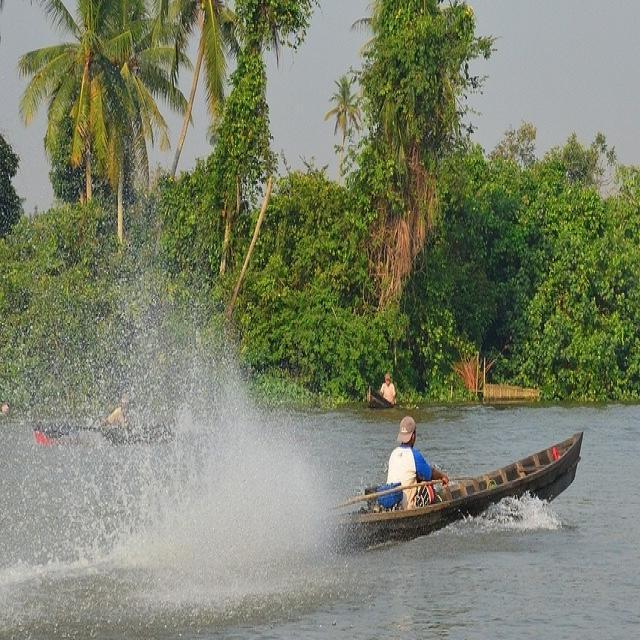Hyacinth: (239, 378, 340, 414), (416, 372, 486, 411), (547, 376, 631, 404)
boat: (180, 434, 594, 574), (23, 398, 200, 461), (361, 384, 415, 417)
